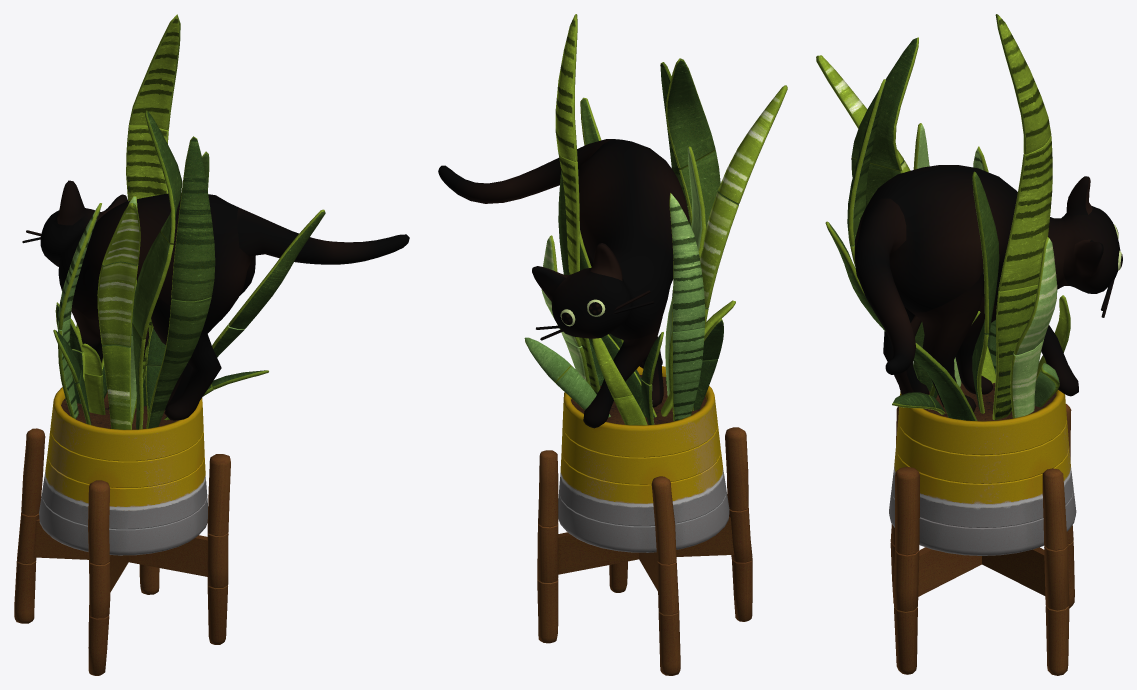
The model's file is Level_P_37.fbx.
The picture shows the model from 3 angles, left to right: view 1: azimuth 30°, elevation 25°; view 2: azimuth 150°, elevation 25°; view 3: azimuth 270°, elevation 25°; orthographic projection. The views are drawn at different scales.
Visible parts, largest first — view 1: Cat, Pot&Leaves.001, Pot&Leaves.040, Pot&Leaves.003, Pot&Leaves.022, Pot&Leaves.002, Pot&Leaves.041, Pot&Leaves.006, Pot&Leaves.021, Pot&Leaves.026, Pot&Leaves.020, Pot&Leaves.024 (+14 smaller); view 2: Cat, Pot&Leaves.001, Pot&Leaves.003, Pot&Leaves.040, Pot&Leaves.002, Pot&Leaves.041, Pot&Leaves.017, Pot&Leaves.023, Pot&Leaves.028, Pot&Leaves.025, Pot&Leaves.021, Pot&Leaves.026 (+22 smaller); view 3: Cat, Pot&Leaves.040, Pot&Leaves.001, Pot&Leaves.003, Pot&Leaves.002, Pot&Leaves.020, Pot&Leaves.041, Pot&Leaves.023, Pot&Leaves.015, Pot&Leaves.021, Pot&Leaves.027, Pot&Leaves.044 (+15 smaller).
Boxes of the visible parts, left/top/right/bottom form: Cat: left=22, top=180, right=409, bottom=420; Pot&Leaves.001: left=17, top=511, right=228, bottom=618; Pot&Leaves.040: left=50, top=387, right=203, bottom=461; Pot&Leaves.003: left=42, top=454, right=207, bottom=529; Pot&Leaves.022: left=171, top=136, right=215, bottom=301; Pot&Leaves.002: left=47, top=428, right=204, bottom=487; Pot&Leaves.041: left=39, top=493, right=207, bottom=555; Pot&Leaves.006: left=146, top=297, right=211, bottom=428; Pot&Leaves.021: left=129, top=14, right=180, bottom=130; Pot&Leaves.026: left=97, top=261, right=138, bottom=346; Pot&Leaves.020: left=126, top=125, right=168, bottom=200; Pot&Leaves.024: left=132, top=231, right=173, bottom=338; Cat: left=438, top=139, right=689, bottom=428; Pot&Leaves.001: left=537, top=506, right=752, bottom=614; Pot&Leaves.003: left=559, top=450, right=726, bottom=526; Pot&Leaves.040: left=562, top=366, right=717, bottom=457; Pot&Leaves.002: left=561, top=423, right=720, bottom=484; Pot&Leaves.041: left=558, top=490, right=729, bottom=552; Pot&Leaves.017: left=669, top=193, right=705, bottom=331; Pot&Leaves.023: left=665, top=58, right=715, bottom=168; Pot&Leaves.028: left=672, top=327, right=704, bottom=421; Pot&Leaves.025: left=718, top=85, right=787, bottom=204; Pot&Leaves.021: left=555, top=14, right=577, bottom=161; Pot&Leaves.026: left=700, top=191, right=738, bottom=308; Cat: left=854, top=165, right=1120, bottom=412; Pot&Leaves.040: left=898, top=374, right=1066, bottom=455; Pot&Leaves.001: left=890, top=524, right=1073, bottom=611; Pot&Leaves.003: left=891, top=447, right=1073, bottom=527; Pot&Leaves.002: left=896, top=420, right=1069, bottom=483; Pot&Leaves.020: left=998, top=136, right=1052, bottom=291; Pot&Leaves.041: left=889, top=490, right=1076, bottom=555; Pot&Leaves.023: left=851, top=37, right=918, bottom=170; Pot&Leaves.015: left=992, top=284, right=1037, bottom=420; Pot&Leaves.021: left=995, top=14, right=1051, bottom=154; Pot&Leaves.027: left=1013, top=237, right=1057, bottom=355; Pot&Leaves.044: left=895, top=466, right=919, bottom=555.
Size of the model in its own units: 11.07 by 19.9 by 8.41.
